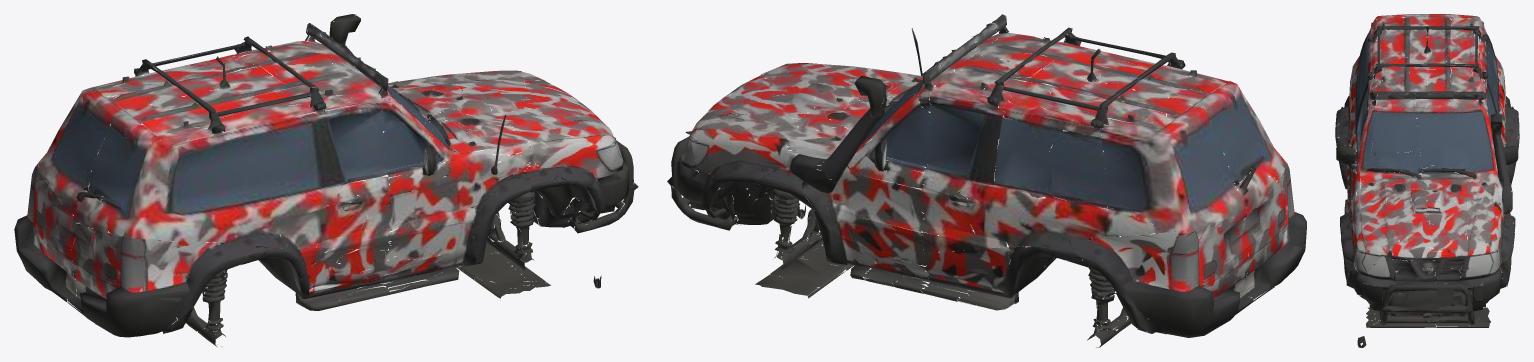
Rendered from daniel_patrol.glb.
3 renders of one model, left to right at view 1: azimuth 30°, elevation 25°; view 2: azimuth 150°, elevation 25°; view 3: azimuth 270°, elevation 25°, orthographic. The views are drawn at different scales.
Parts seen in each view (by area): view 1: V_BODY; view 2: V_BODY; view 3: V_BODY.
Part boxes in pixels (x1=…): V_BODY: x1=14, y1=14, x2=638, y2=347; V_BODY: x1=667, y1=14, x2=1306, y2=347; V_BODY: x1=1335, y1=14, x2=1519, y2=347.
Bounding box in the file's own units: 5 × 2.43 × 2.
Materials: 1 (1 with a texture image).
